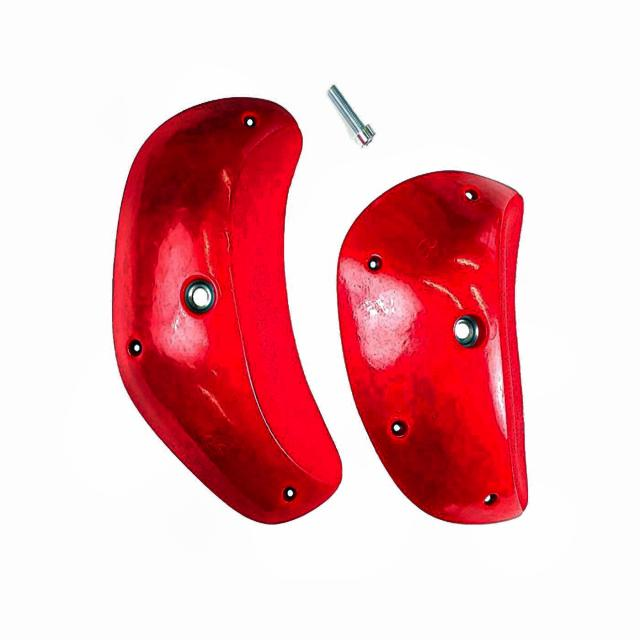Hold: (114, 98, 342, 534), (338, 164, 533, 540)
